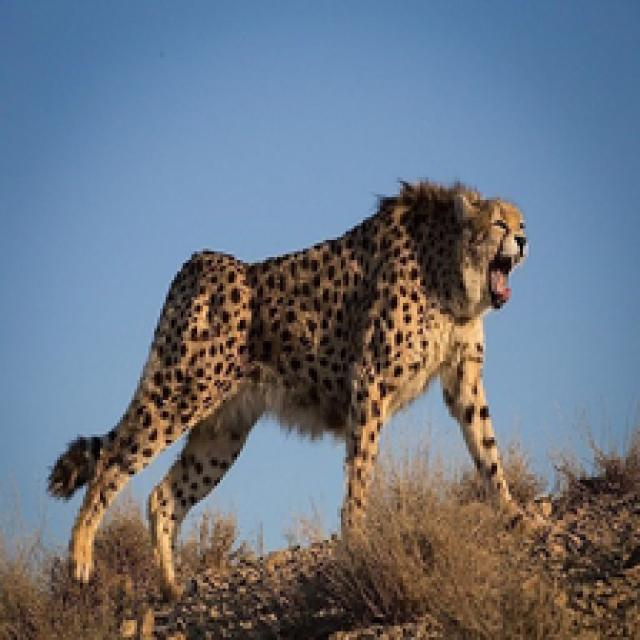cheetah: (19, 186, 640, 640)
